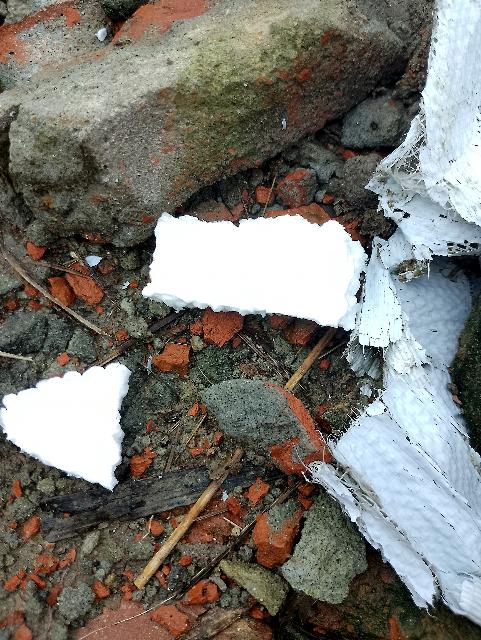cocksheet: (0, 325, 177, 502), (137, 203, 368, 336)
